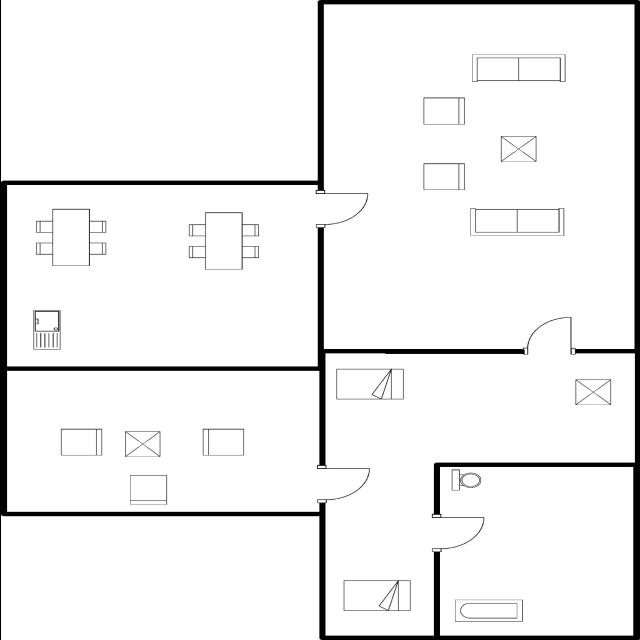bed: (336, 577, 416, 614), (331, 364, 407, 402)
coffee_table: (568, 375, 616, 408), (496, 133, 540, 165), (121, 428, 167, 458)
dining_table: (32, 204, 111, 270), (183, 208, 264, 272)
large_sink: (446, 467, 484, 492)
large_sofa: (466, 203, 570, 239), (466, 51, 574, 85)
sink: (26, 306, 64, 352)
small_sofa: (416, 94, 469, 128), (197, 424, 249, 458), (124, 472, 173, 508), (54, 425, 104, 459), (419, 161, 469, 193)
tub: (450, 595, 527, 625)
